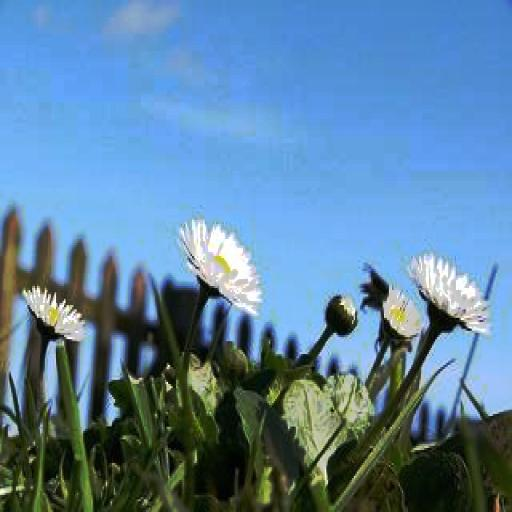daisy: (179, 218, 259, 309), (422, 254, 494, 331), (22, 280, 84, 339), (384, 288, 421, 341), (326, 296, 357, 335)
